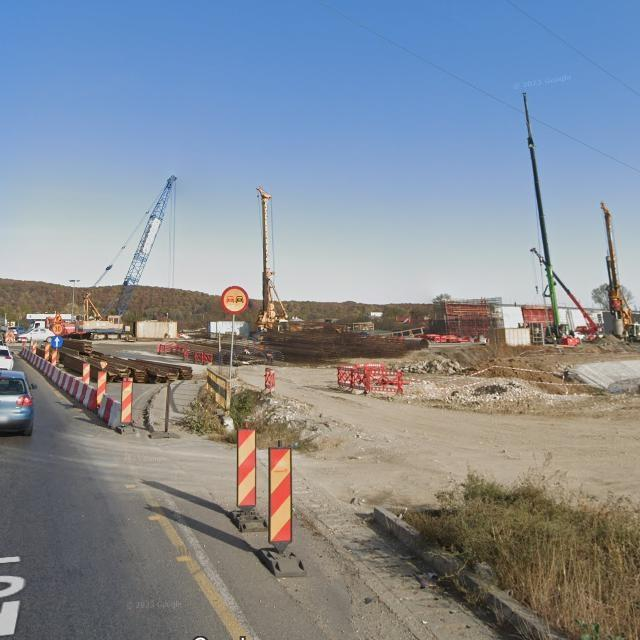forb_overtake: (221, 285, 249, 313)
